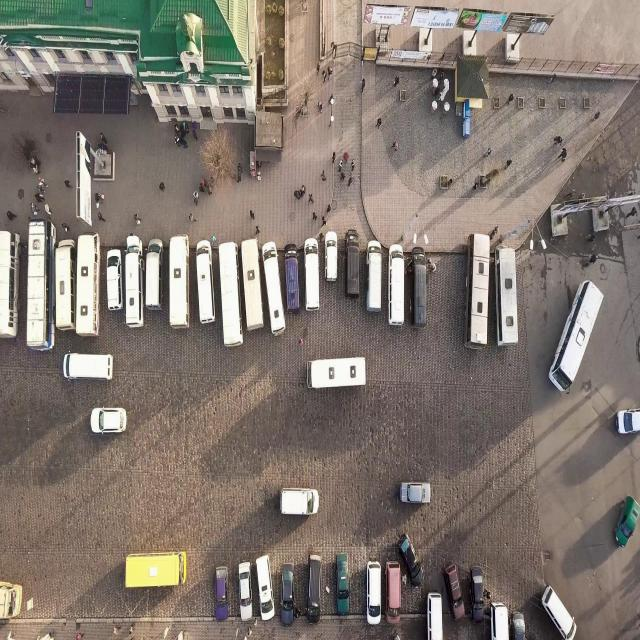Bus: (548, 281, 604, 395), (26, 219, 58, 350), (300, 348, 372, 403), (464, 233, 489, 349), (217, 241, 243, 345), (76, 232, 101, 336), (495, 248, 519, 348), (261, 240, 286, 335), (125, 552, 190, 588), (0, 233, 21, 340), (241, 239, 265, 330), (54, 238, 76, 330), (541, 586, 577, 640), (169, 236, 190, 328), (124, 235, 145, 326), (75, 130, 93, 228), (64, 353, 113, 381), (366, 238, 383, 318), (428, 591, 443, 639)
Car: (196, 239, 216, 326), (145, 238, 164, 311), (256, 553, 276, 621), (389, 242, 405, 326), (444, 562, 466, 621), (398, 533, 422, 586), (399, 477, 435, 510), (412, 248, 427, 327), (304, 237, 320, 310), (106, 248, 124, 312), (306, 553, 322, 623), (284, 242, 300, 312), (280, 488, 320, 515), (345, 228, 360, 298), (366, 560, 382, 624), (280, 564, 296, 626), (386, 561, 402, 623), (238, 561, 254, 623), (90, 408, 127, 434), (0, 580, 23, 619), (335, 553, 349, 615), (470, 567, 484, 624), (215, 566, 229, 620), (490, 602, 509, 640), (324, 230, 338, 281), (615, 408, 640, 434), (512, 612, 526, 640), (36, 632, 54, 640)
Van: (614, 497, 640, 546)
